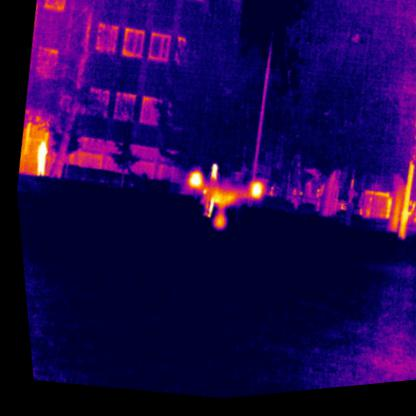drone: (174, 166, 264, 244)
human: (28, 139, 48, 176)
